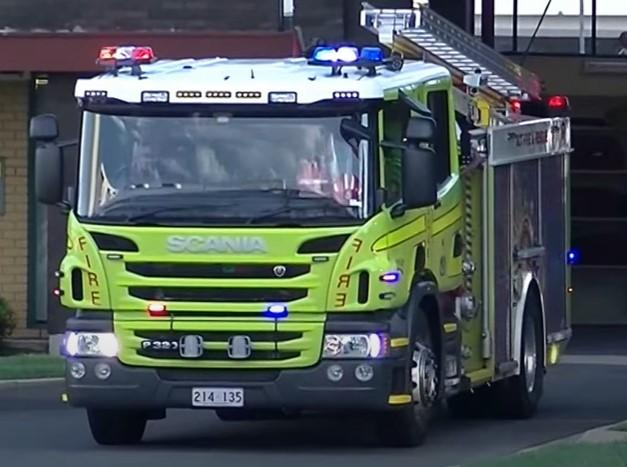firetruck_on: (29, 0, 568, 443)
